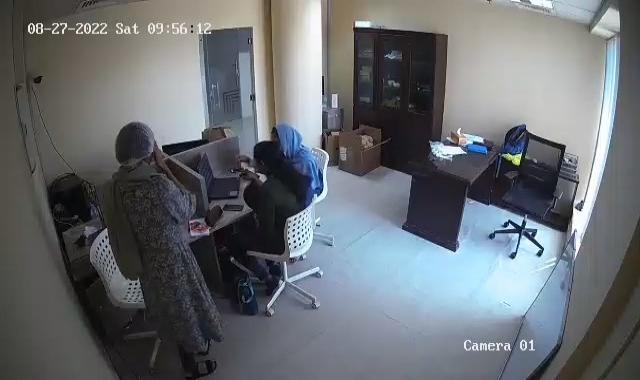hairnet: (115, 121, 155, 167)
no_hairnet: (253, 139, 283, 175), (273, 122, 304, 154)
